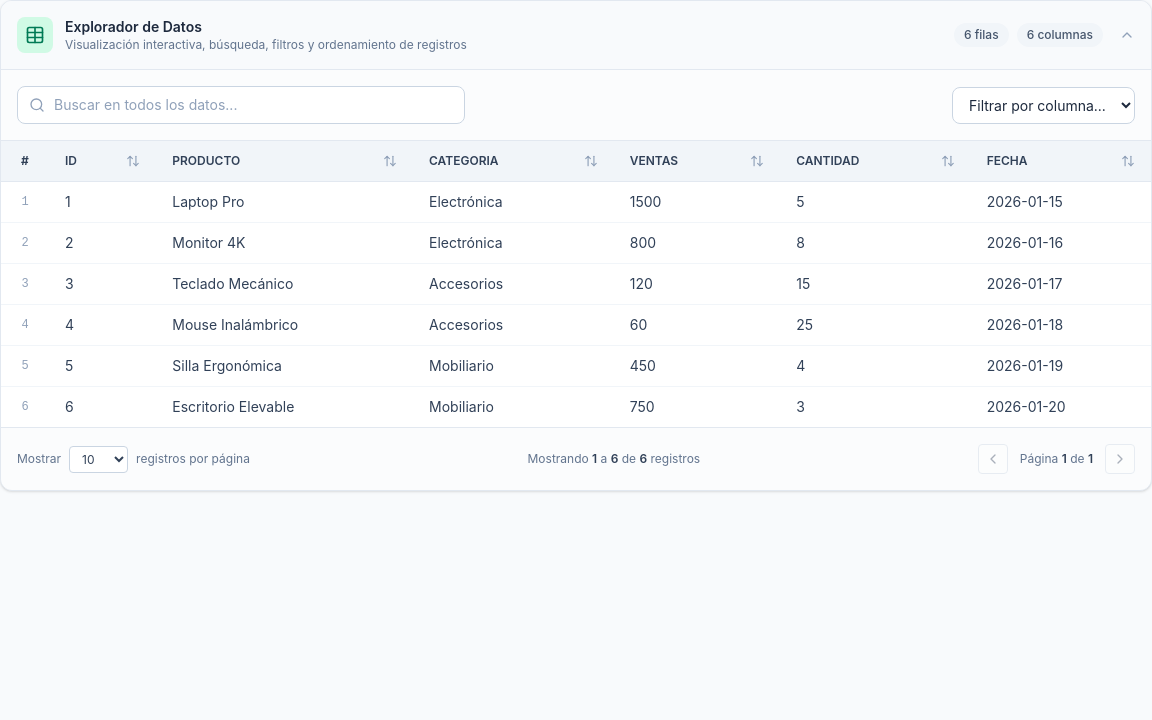
Test: Componente DataExplorer › debe filtrar registros mediante la barra de búsqueda global
The image size is (1152, 720).
Type "Silla" into the field with placeholder "Buscar en todos los datos..." at (241, 105), box 17,86 -> 465,124
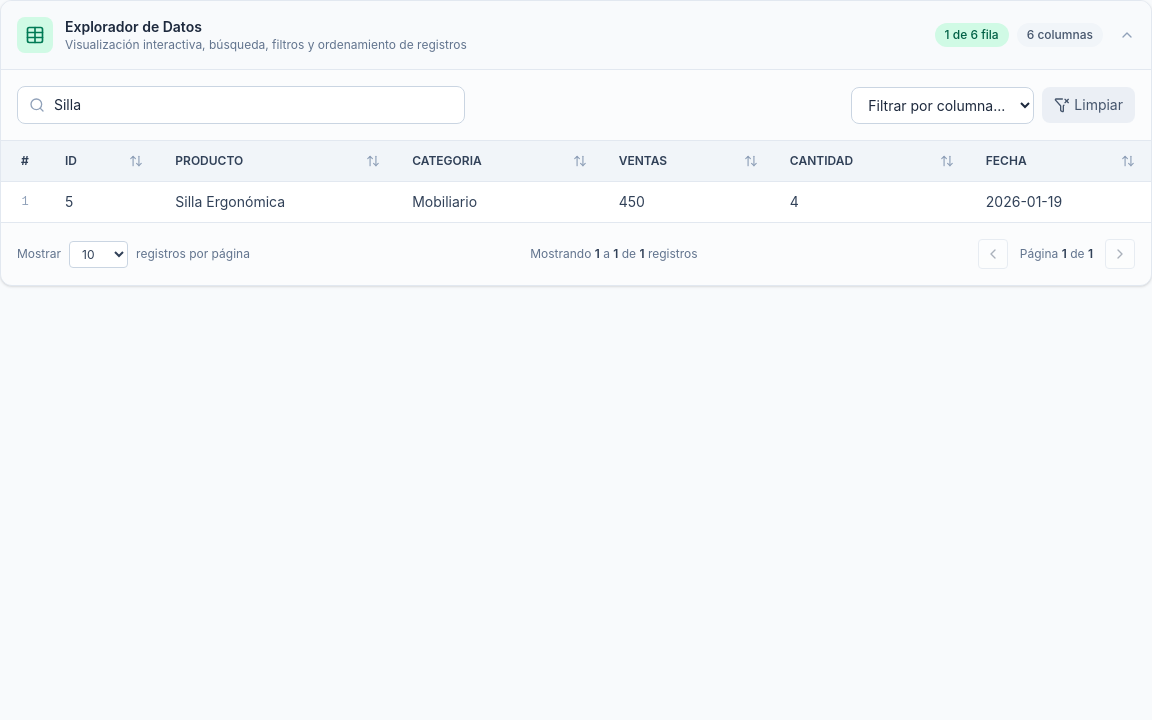
Now the text "Silla Ergonómica" is shown, box 159,182 -> 396,222
Now the text "Laptop Pro" is gone
Now the text "Monitor 4K" is gone
